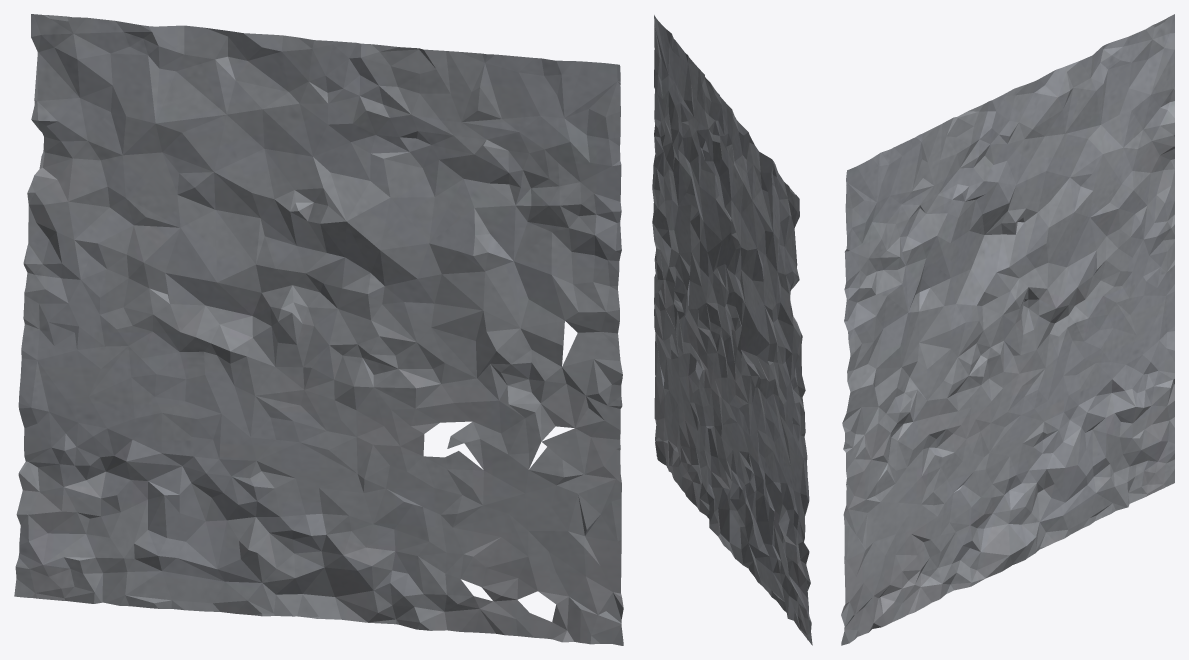
The picture shows the model from 3 angles, left to right: view 1: azimuth 30°, elevation 25°; view 2: azimuth 150°, elevation 25°; view 3: azimuth 270°, elevation 25°; orthographic projection. The views are drawn at different scales.
Size of the model in its own units: 0.6155 by 0.8374 by 0.5327.
Materials: 2 (2 with a texture image).
